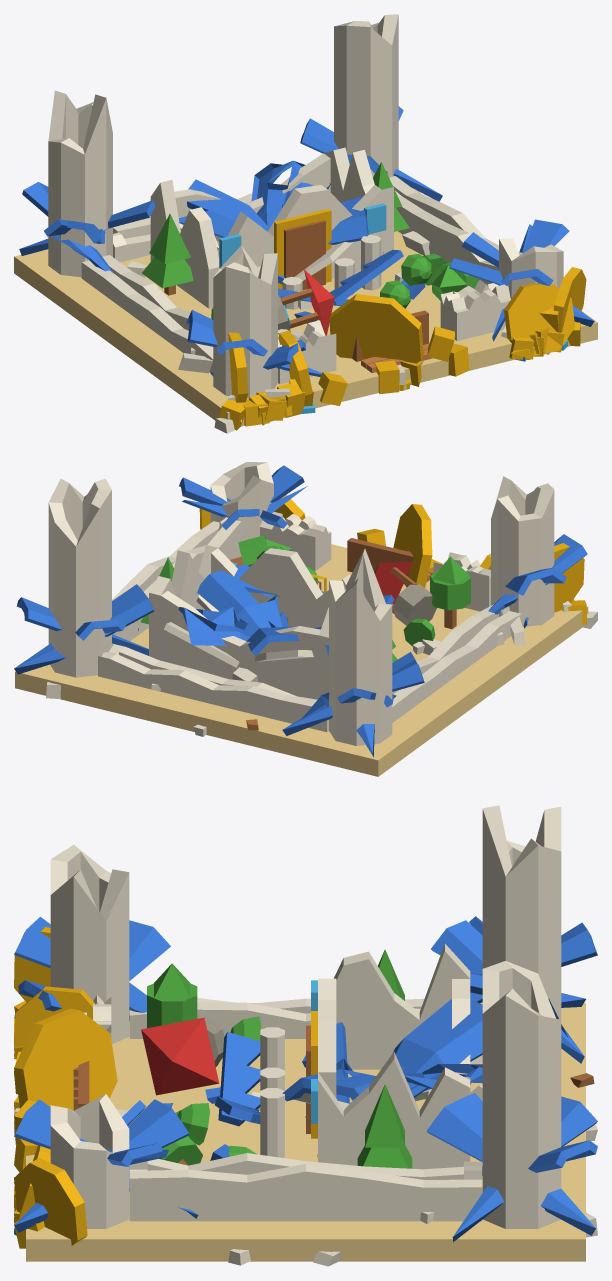
File: castle_v3_dmg2.glb
3 renders of one model, top to bottom at view 1: azimuth 30°, elevation 25°; view 2: azimuth 150°, elevation 25°; view 3: azimuth 270°, elevation 25°, orthographic. The views are drawn at different scales.
Visible parts, largest first — view 1: castle_v3_dmg2; view 2: castle_v3_dmg2; view 3: castle_v3_dmg2.
Boxes of the visible parts, x1,y1,x2,y2 form: castle_v3_dmg2: [14, 14, 597, 433]; castle_v3_dmg2: [14, 462, 597, 776]; castle_v3_dmg2: [14, 805, 597, 1266].
Size of the model in its own units: 0.96 by 0.4693 by 0.96.
Materials: 1 (1 with a texture image).
